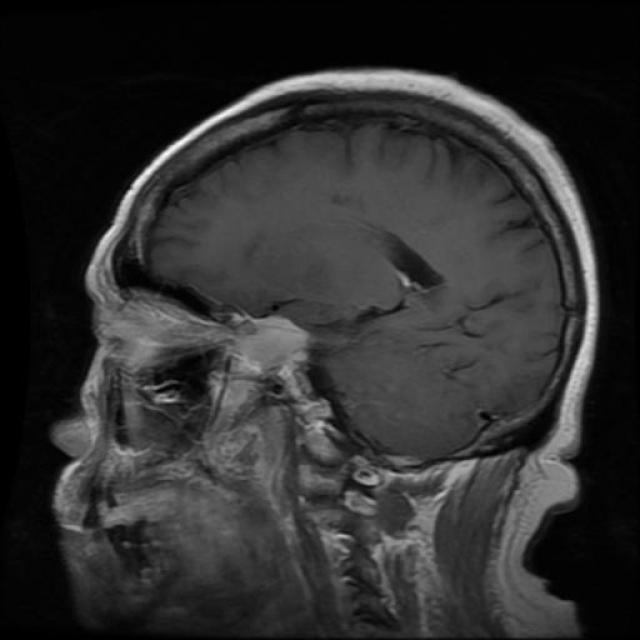meningioma: (235, 319, 306, 369)
